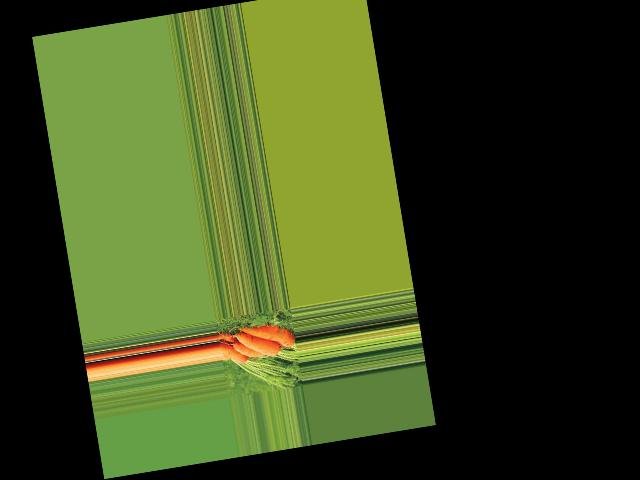carrot: (221, 337, 248, 368)
